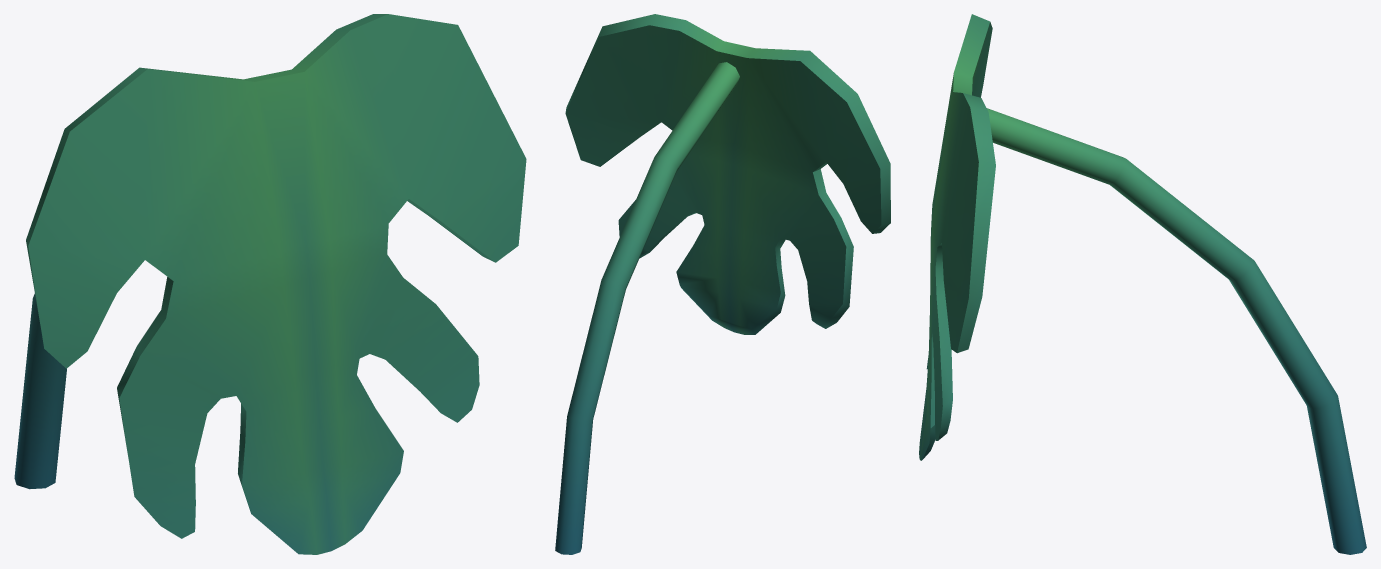
The model's file is Monstera Leaf-XlIwuRmbHq.glb.
3 views of the same model, side by side, from view 1: azimuth 30°, elevation 25°; view 2: azimuth 150°, elevation 25°; view 3: azimuth 270°, elevation 25° (orthographic). The views are drawn at different scales.
Parts seen in each view (by area): view 1: monstera_leaf_medium_C; view 2: monstera_leaf_medium_C; view 3: monstera_leaf_medium_C.
Boxes of the visible parts, <box> form: monstera_leaf_medium_C: <box>14,14,526,554</box>; monstera_leaf_medium_C: <box>555,14,890,554</box>; monstera_leaf_medium_C: <box>919,14,1366,554</box>.
Bounding box in the file's own units: 0.6777 × 0.8061 × 0.6751.
1 material, 1 textured.
